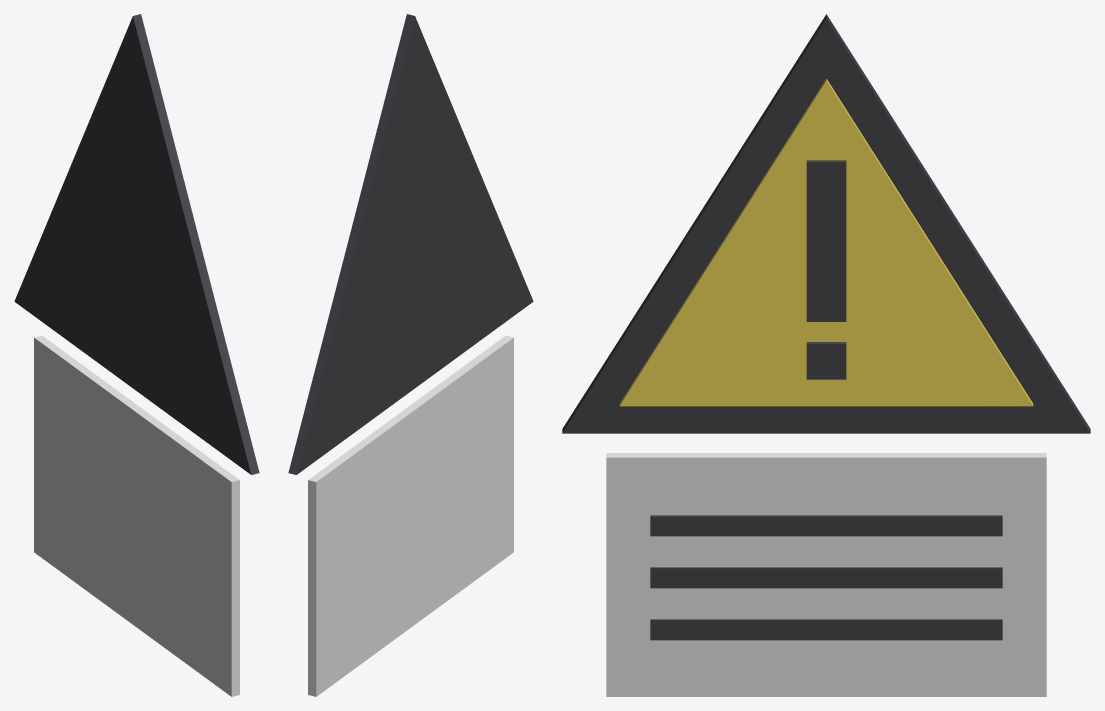
File: SM_Prop_SiteSign.fbx
3 views of the same model, side by side, from view 1: azimuth 30°, elevation 25°; view 2: azimuth 150°, elevation 25°; view 3: azimuth 270°, elevation 25° (orthographic). The views are drawn at different scales.
Parts seen in each view (by area): view 1: SM_Prop_SiteSign; view 2: SM_Prop_SiteSign; view 3: SM_Prop_SiteSign.
Boxes of the visible parts, left/top/right/bottom form: SM_Prop_SiteSign: left=14, top=14, right=259, bottom=696; SM_Prop_SiteSign: left=288, top=14, right=533, bottom=696; SM_Prop_SiteSign: left=562, top=14, right=1090, bottom=696.
Bounding box in the file's own units: 0.6 × 0.023 × 0.85.
